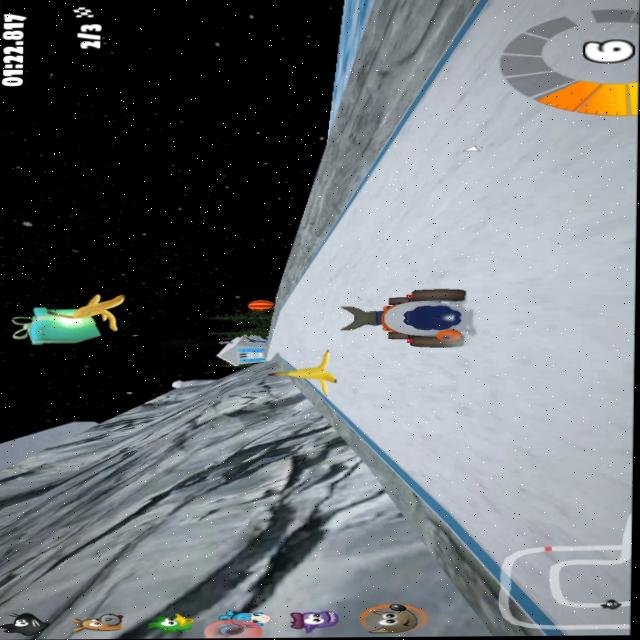obstacle: (268, 352, 346, 389)
player_kart: (339, 285, 479, 354)
track: (483, 0, 639, 562), (349, 164, 485, 283), (345, 354, 476, 451), (386, 442, 493, 512), (397, 82, 490, 162), (556, 560, 630, 632), (427, 22, 495, 80), (278, 294, 337, 351), (294, 264, 346, 292), (316, 234, 352, 261)
